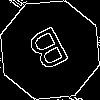B: (25, 25, 76, 81)
